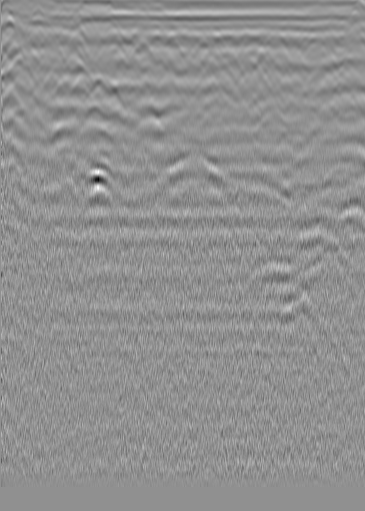가스: (77, 166, 113, 198)
상수: (317, 27, 337, 47)
오수: (29, 8, 49, 28)
우수: (172, 22, 192, 42)
